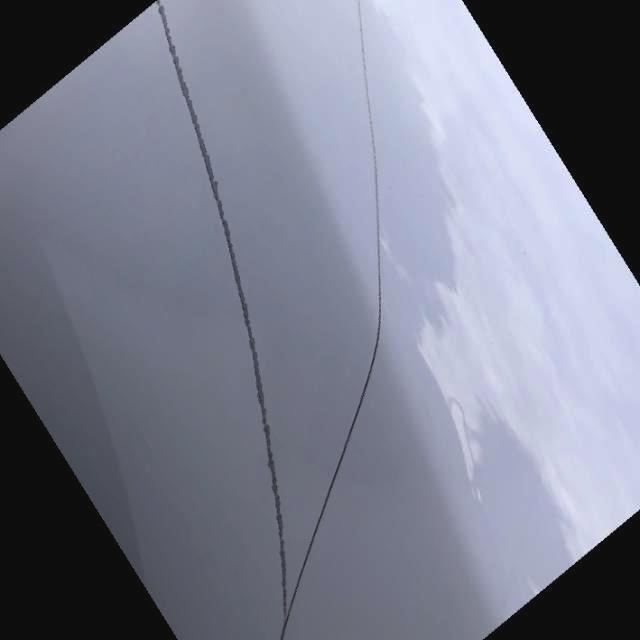crack: (174, 29, 279, 506), (319, 39, 401, 551)
